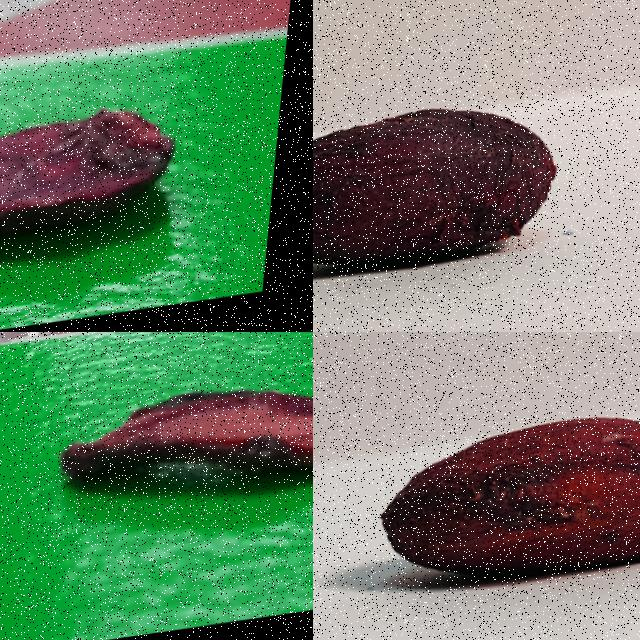Fine_cocoabeans: (313, 71, 622, 325), (335, 380, 639, 623)
Flat_cocoabeans: (0, 332, 312, 591), (0, 44, 251, 331)
